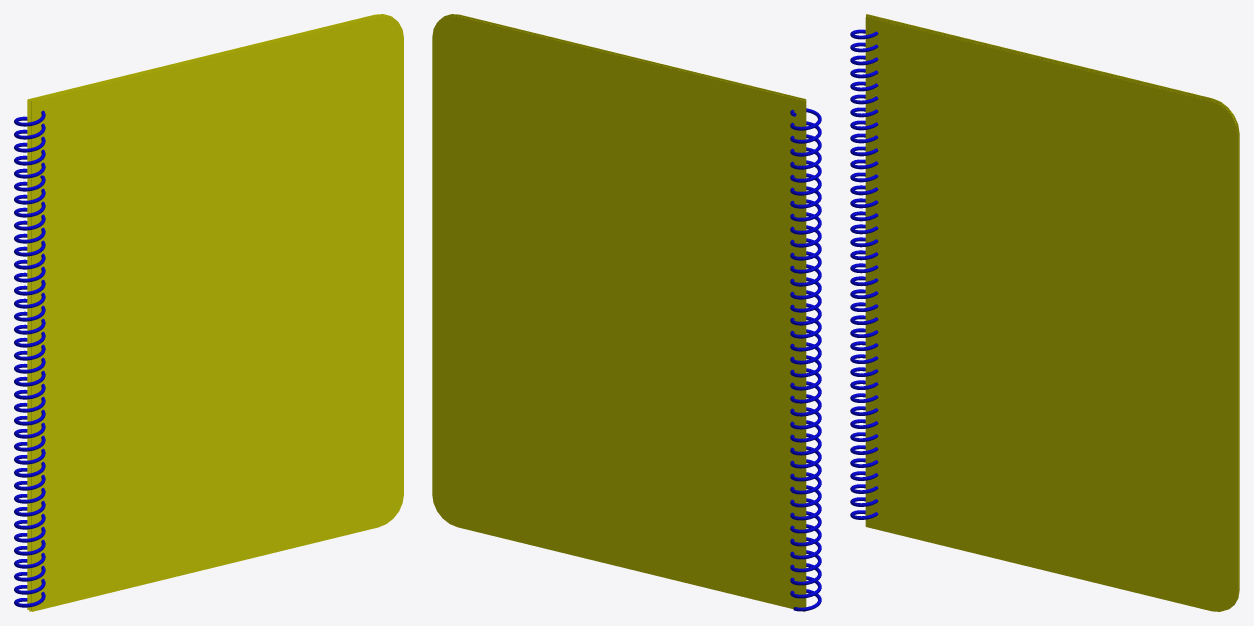
File: Notebook.fbx
The picture shows the model from 3 angles, left to right: view 1: azimuth 30°, elevation 25°; view 2: azimuth 150°, elevation 25°; view 3: azimuth 330°, elevation 25°; orthographic projection.
Parts seen in each view (by area): view 1: Notebook; view 2: Notebook; view 3: Notebook.
Part boxes in pixels (bbox=[...]): Notebook: bbox=[14, 14, 403, 611]; Notebook: bbox=[432, 14, 821, 611]; Notebook: bbox=[850, 14, 1239, 611].
Bounding box in the file's own units: 30.33 × 38.39 × 2.15.
